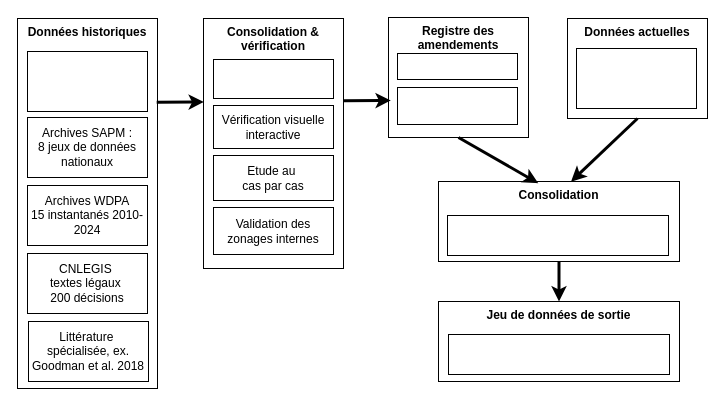
Image size: 725x406. Some labels were removed from this diagram. Each missing label, with the centre of its shape:
"Collection de scripts R pour la combinaison et l'audit" belongs at point 557,235.
"Consolidation entre sources" belongs at point 273,78.
"Etats spatiotemporels des AP Geopackage et GeoParquet" belongs at point 559,354.
"Fichiers YAML" belongs at point 457,66.
"Géométries GeoJSON" belongs at point 457,105.
"Référence de travail WDPA oct. 2025" belongs at point 87,81.
"WDPA Version à jour au moment de la génération" belongs at point 636,78.
